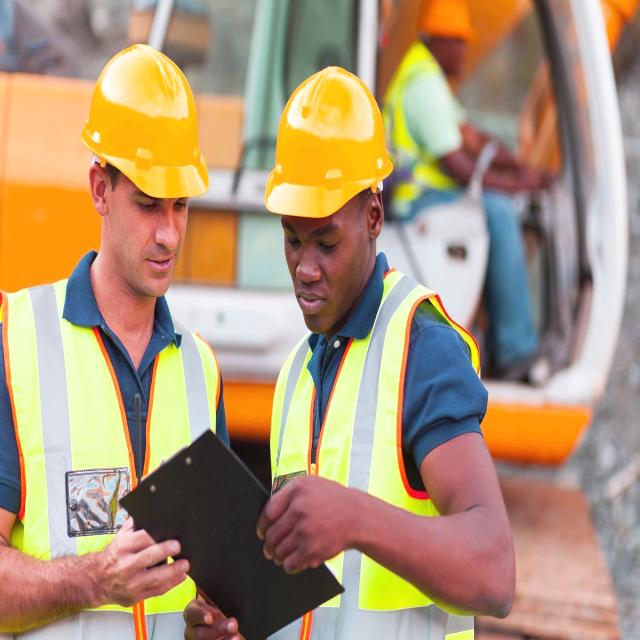face_nomask: (277, 202, 368, 316), (118, 161, 188, 293)
hand_noglove: (257, 468, 348, 568), (108, 505, 188, 612)
head_helmet: (78, 44, 207, 198), (261, 65, 385, 214), (423, 3, 468, 36)
person: (0, 44, 207, 636), (261, 72, 423, 640), (413, 7, 511, 299)
vest: (0, 296, 191, 635), (278, 312, 454, 595), (384, 60, 437, 202)
